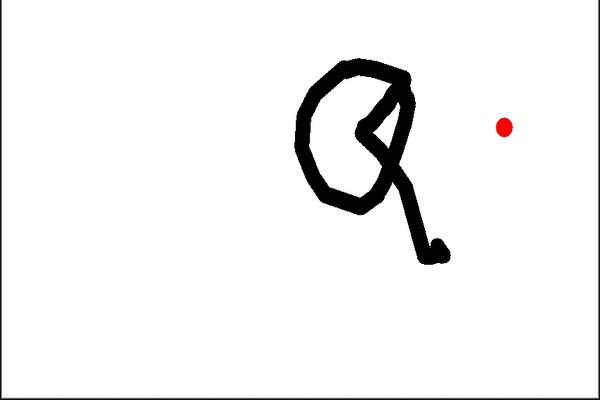Q: (279, 43, 464, 272)
